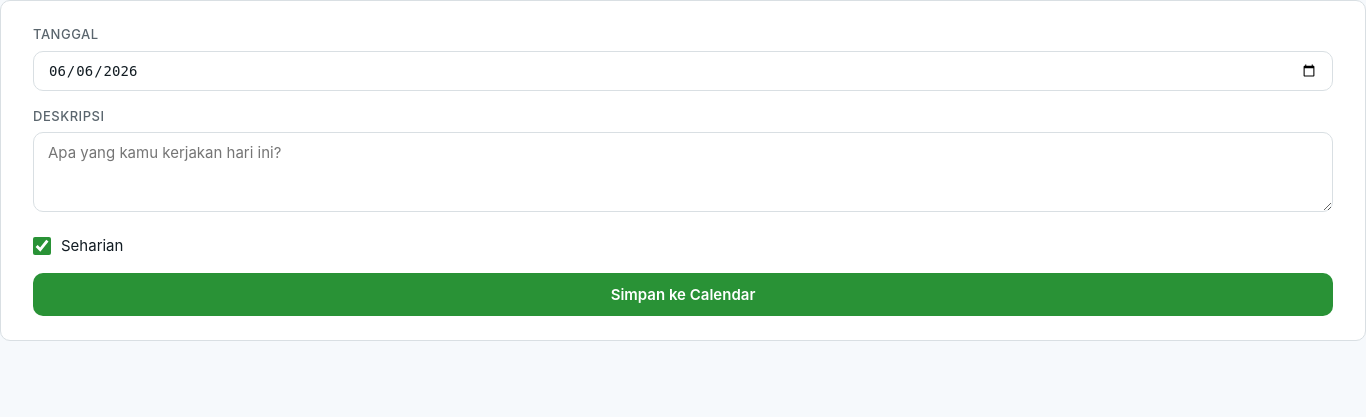
Test: ActivityForm › shows error toast and retains values on non-2xx response
Type "My activity" into the text box labelled "Deskripsi" at point(683, 172), box [33,132,1333,212]
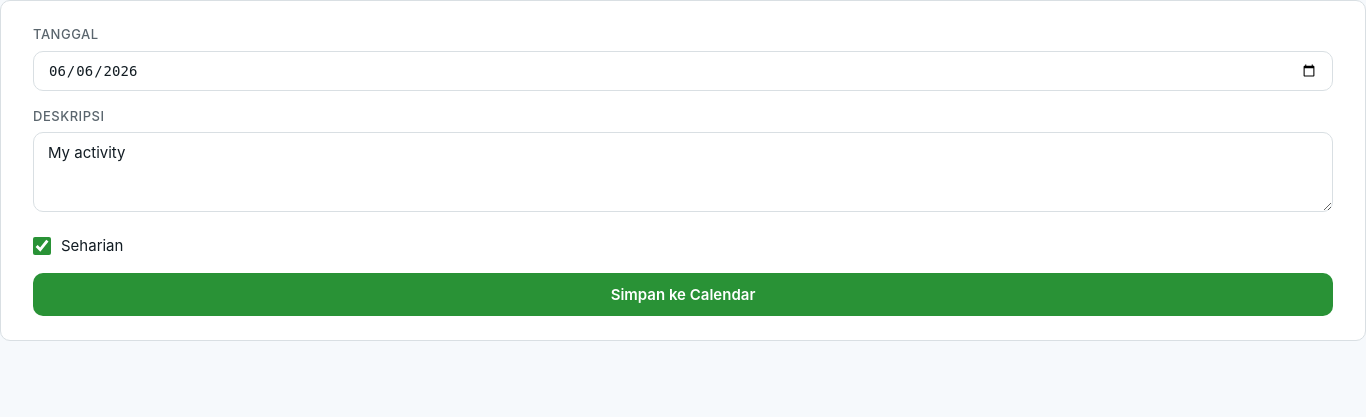
Click the button with test id "submit-button" at point(683, 294), box [33,273,1333,316]
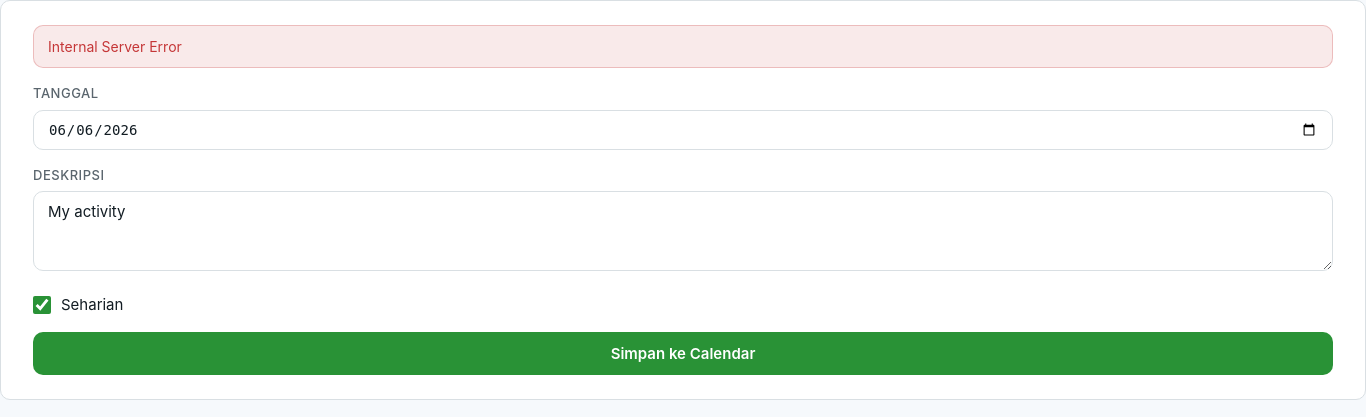
Result: the message with test id "submit-error" reads "Internal Server Error" at [48,38,182,55]
